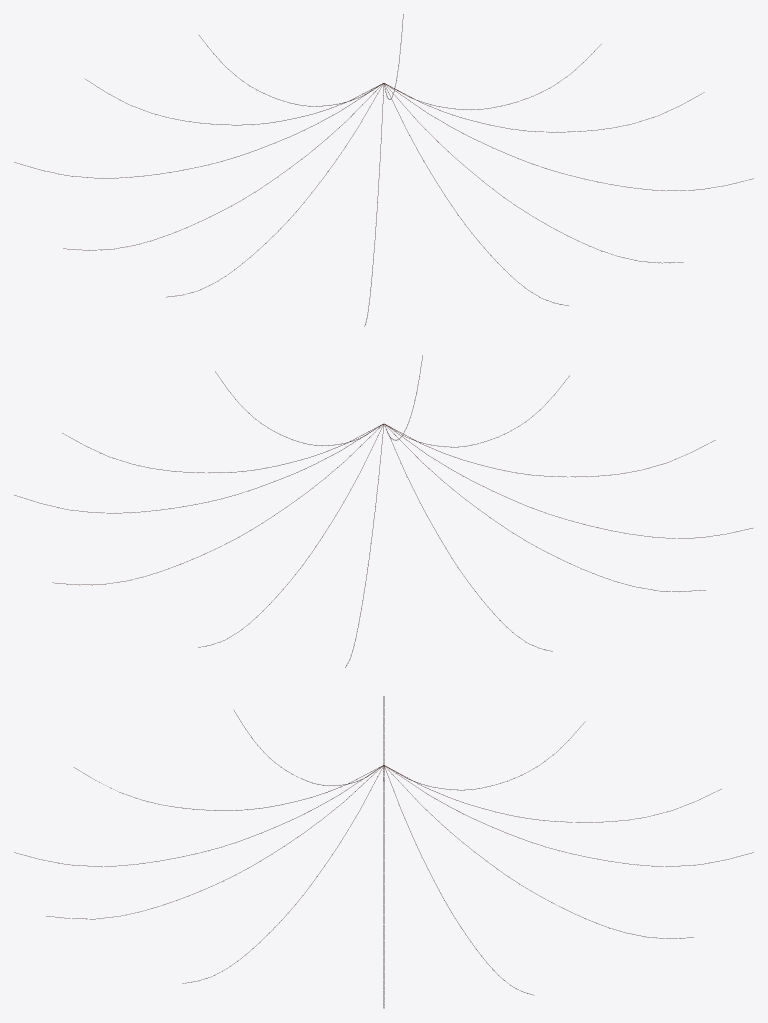
Rendered from LVR_StringLights_old.fbx.
3 renders of one model, top to bottom at view 1: azimuth 30°, elevation 25°; view 2: azimuth 150°, elevation 25°; view 3: azimuth 270°, elevation 25°, orthographic.
Visible parts, largest first — view 1: Lights.012; view 2: Lights.012; view 3: Lights.012.
Boxes of the visible parts, left/top/right/bottom form: Lights.012: left=14, top=14, right=753, bottom=326; Lights.012: left=14, top=355, right=752, bottom=667; Lights.012: left=14, top=696, right=753, bottom=1008.
Size of the model in its own units: 295 by 44.92 by 295.
